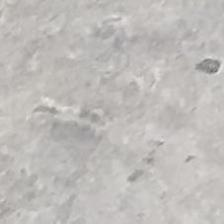Non_Crack: (34, 83, 224, 195)
